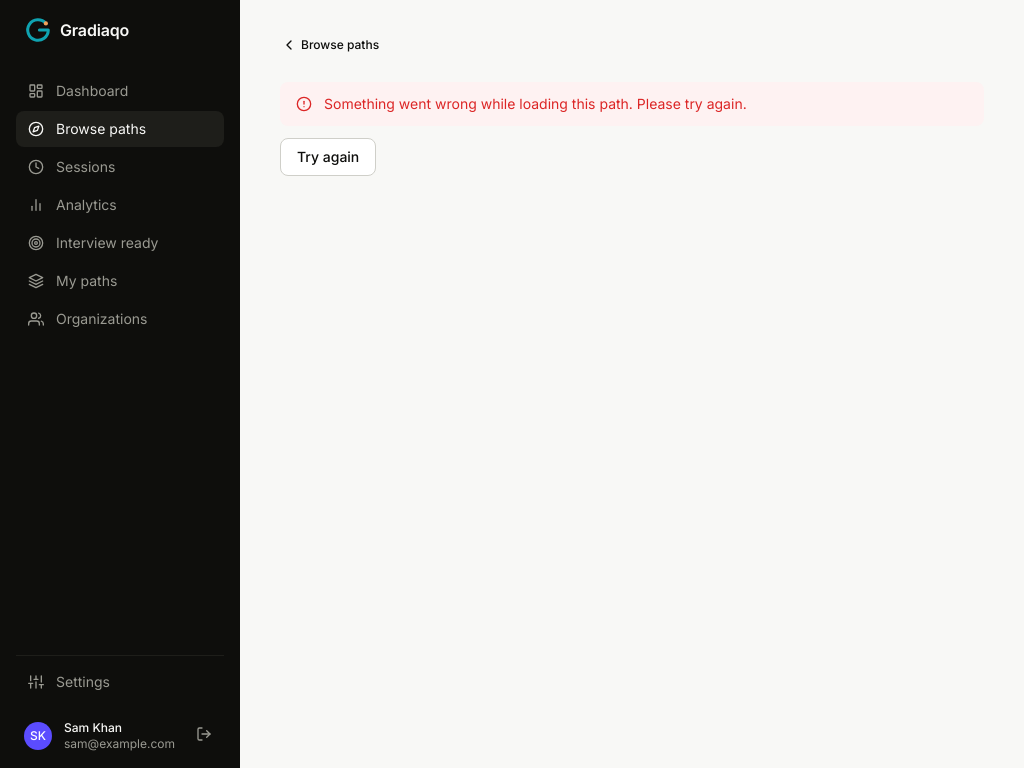
Test: PathPreviewPage › says when loading failed, and tries again
The image size is (1024, 768).
Expected: the message shows "Something went wrong while loading this path.", [324, 95, 747, 112]
Step 1. Click the button "Try again" → coordinates (328, 157), box [280, 138, 376, 176]
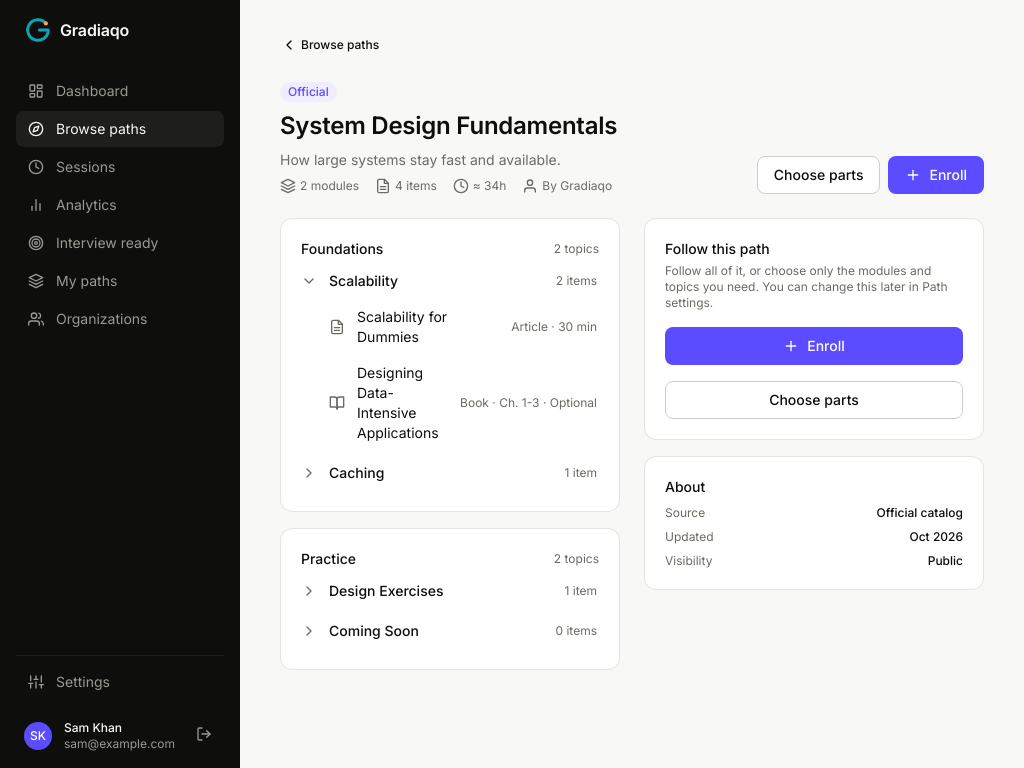
Result: the heading "System Design Fundamentals" is shown at [280, 111, 617, 140]
